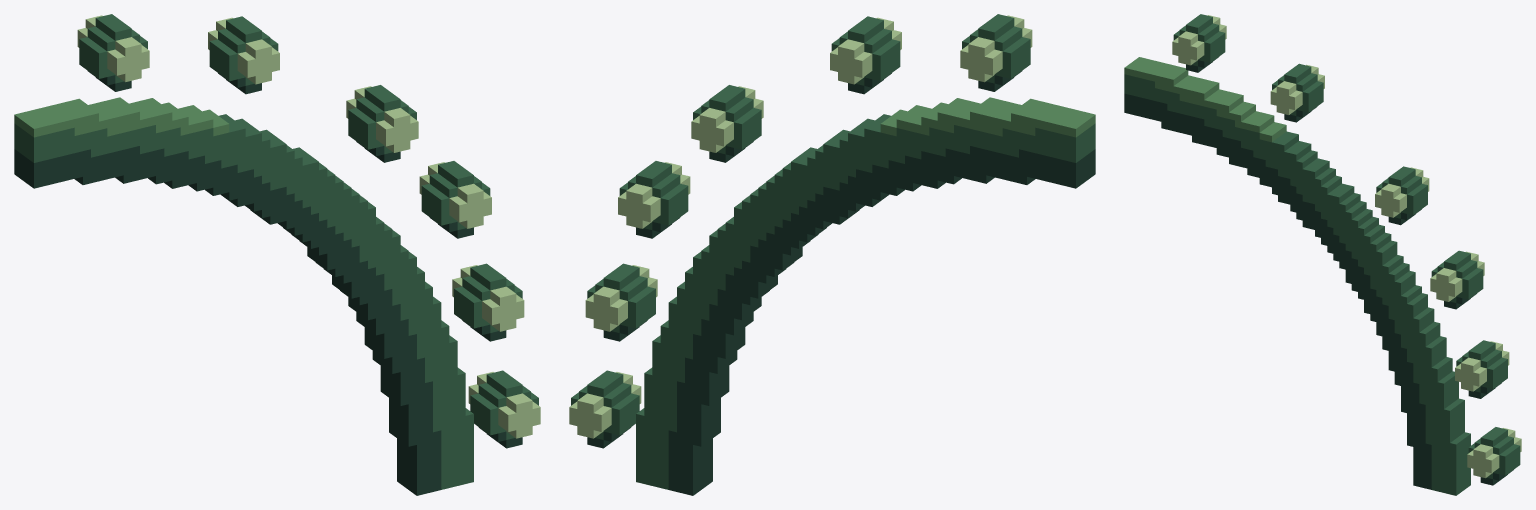
The model's file is radar.fbx.
3 views of the same model, side by side, from view 1: azimuth 30°, elevation 25°; view 2: azimuth 150°, elevation 25°; view 3: azimuth 330°, elevation 25° (orthographic). The views are drawn at different scales.
Visible parts, largest first — view 1: generated; view 2: generated; view 3: generated.
Part boxes in pixels (x1=…): generated: x1=14, y1=14, x2=540, y2=495; generated: x1=569, y1=14, x2=1095, y2=495; generated: x1=1124, y1=14, x2=1521, y2=495.
Bounding box in the file's own units: 620 × 630 × 84.
